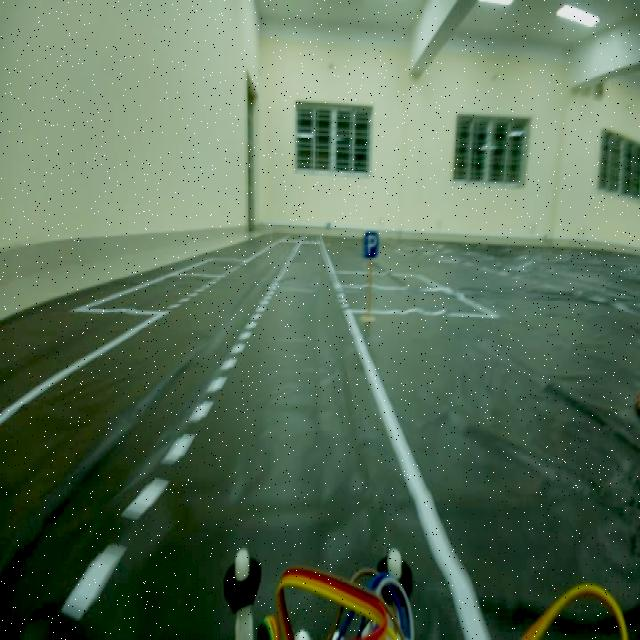parking: (358, 231, 382, 266)
